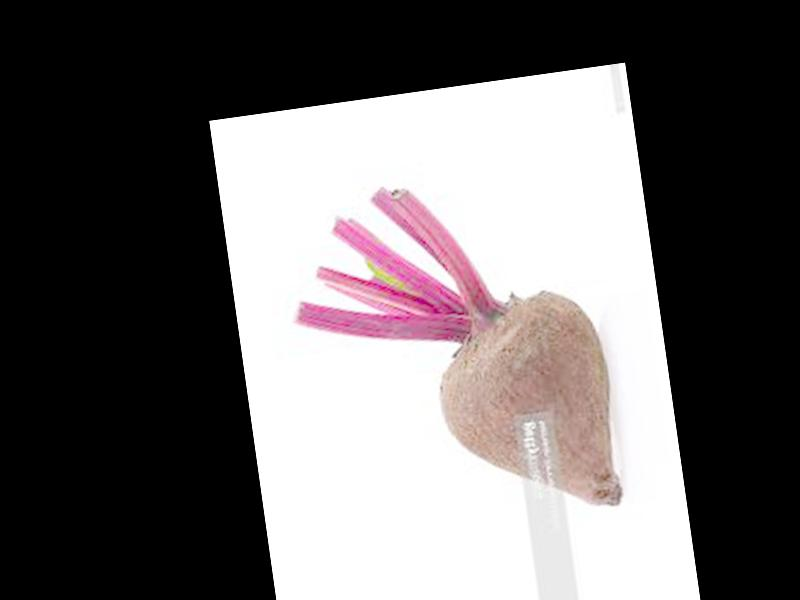Beet: (279, 160, 624, 546)
